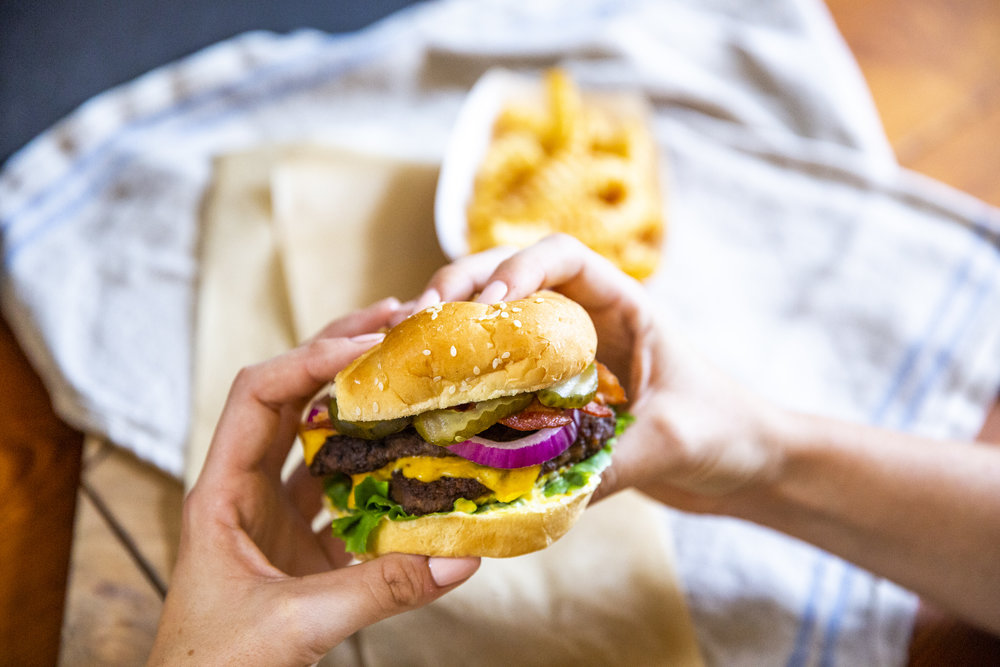hamburger_buns: (300, 260, 650, 590)
